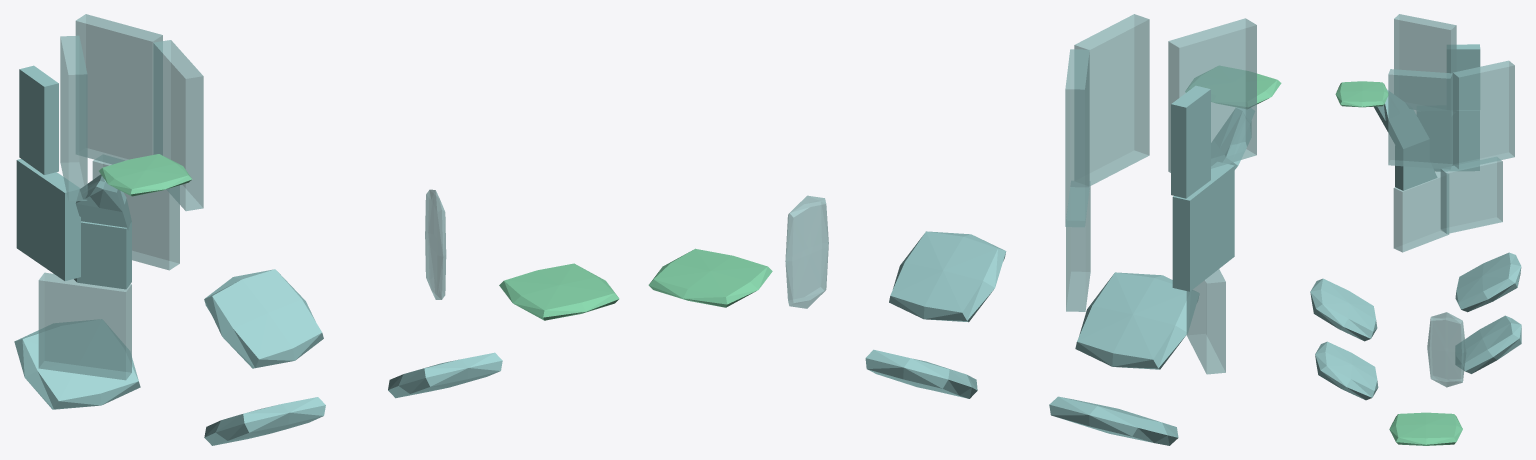
Rendered from scene_jump10.dae.
The picture shows the model from 3 angles, left to right: view 1: azimuth 30°, elevation 25°; view 2: azimuth 150°, elevation 25°; view 3: azimuth 270°, elevation 25°; orthographic projection. The views are drawn at different scales.
Parts seen in each view (by area): view 1: Cube_011, Cube_005, Cube_008, Cube_002, Cube_007, Cube_006, Cube_013, Cube_003, Cube_009, Cube_004, Cube_012, Cube_001 (+3 smaller); view 2: Cube_007, Cube_009, Cube_001, Cube, Cube_006, Cube_003, Cube_011, Cube_015, Cube_012, Cube_005, Cube_008, Cube_004 (+3 smaller); view 3: Cube_007, Cube_011, Cube_009, Cube_004, Cube_005, Cube_013, Cube_006, Cube_001, Cube_008, Cube_015, Cube_002, Cube (+3 smaller).
Part boxes in pixels (x1,y1,x2,y2): Cube_011: (75,14,162,164); Cube_005: (38,272,131,380); Cube_008: (14,319,140,409); Cube_002: (204,269,323,368); Cube_007: (153,40,203,211); Cube_006: (16,159,80,280); Cube_013: (74,174,131,289); Cube_003: (499,263,619,320); Cube_009: (60,35,87,201); Cube_004: (92,155,179,270); Cube_012: (19,65,58,174); Cube_001: (204,397,325,445); Cube_007: (1074,14,1149,185); Cube_009: (1168,18,1256,172); Cube_001: (1075,272,1199,369); Cube: (889,231,1006,322); Cube_006: (1172,162,1234,291); Cube_003: (648,248,772,307); Cube_011: (1065,49,1089,227); Cube_015: (785,195,828,308); Cube_012: (1171,85,1210,198); Cube_005: (1186,269,1225,374); Cube_008: (1049,396,1178,445); Cube_004: (1066,181,1090,311); Cube_007: (1388,69,1452,169); Cube_011: (1453,60,1514,169); Cube_009: (1394,14,1456,116); Cube_004: (1440,157,1502,233); Cube_005: (1393,171,1449,252); Cube_013: (1374,89,1437,190); Cube_006: (1417,110,1479,171); Cube_001: (1310,278,1377,341); Cube_008: (1455,252,1521,312); Cube_015: (1427,312,1466,387); Cube_002: (1455,315,1521,373); Cube: (1315,341,1378,400).
Bounding box in the file's own units: 13.2 × 6.32 × 8.71.
